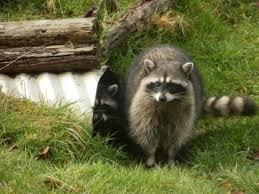raccoon: (116, 38, 259, 175), (79, 74, 125, 144)
